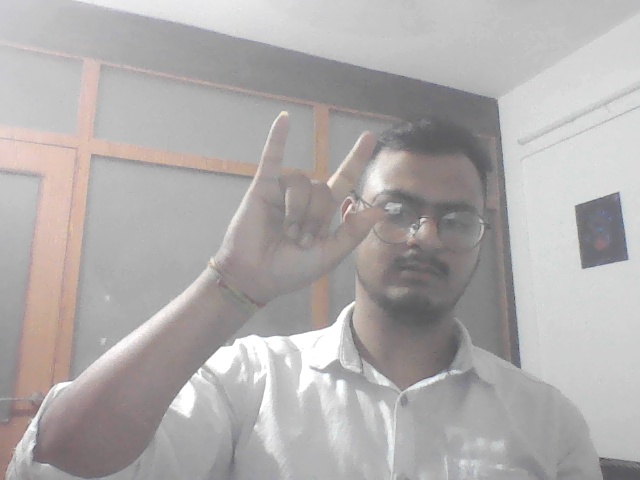I Love You: (206, 102, 400, 325)
